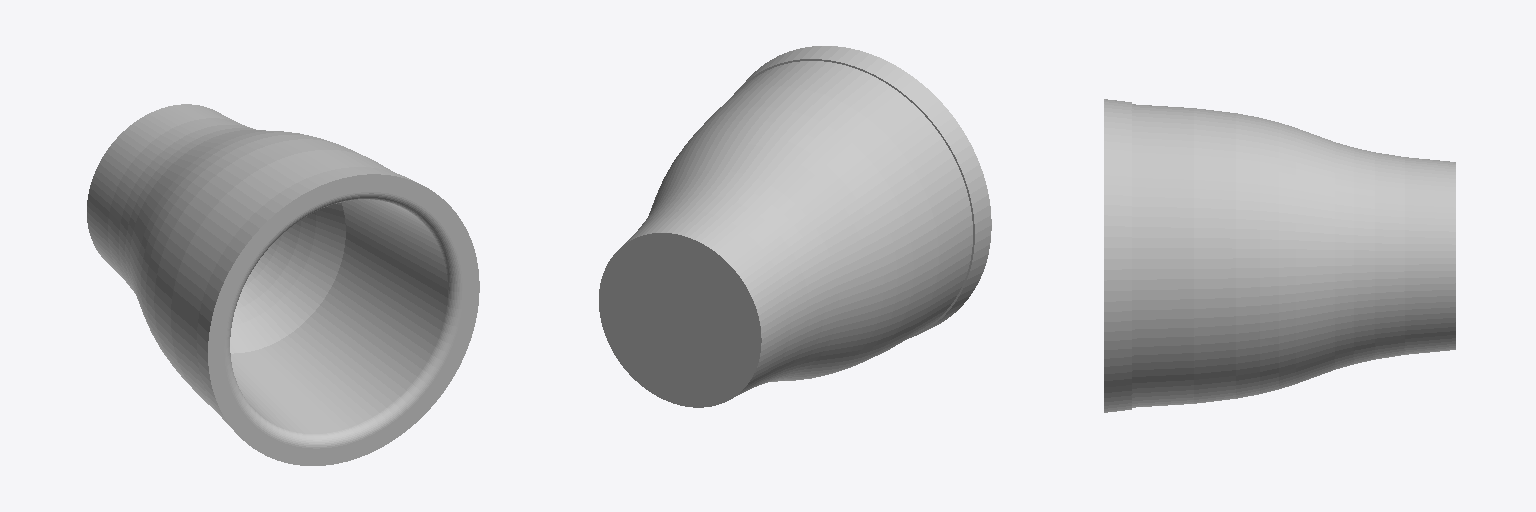
The model's file is 大水缸.obj.
The picture shows the model from 3 angles: view 1: azimuth 30°, elevation 25°; view 2: azimuth 150°, elevation 25°; view 3: azimuth 270°, elevation 25°; orthographic projection.
Visible parts, largest first — view 1: ____01; view 2: ____01; view 3: ____01.
Part boxes in pixels (x1,y1,x2,y2): ____01: (87, 104, 479, 465); ____01: (599, 46, 991, 407); ____01: (1104, 99, 1455, 412).
Bounding box in the file's own units: 0.0134 × 0.0134 × 0.015.